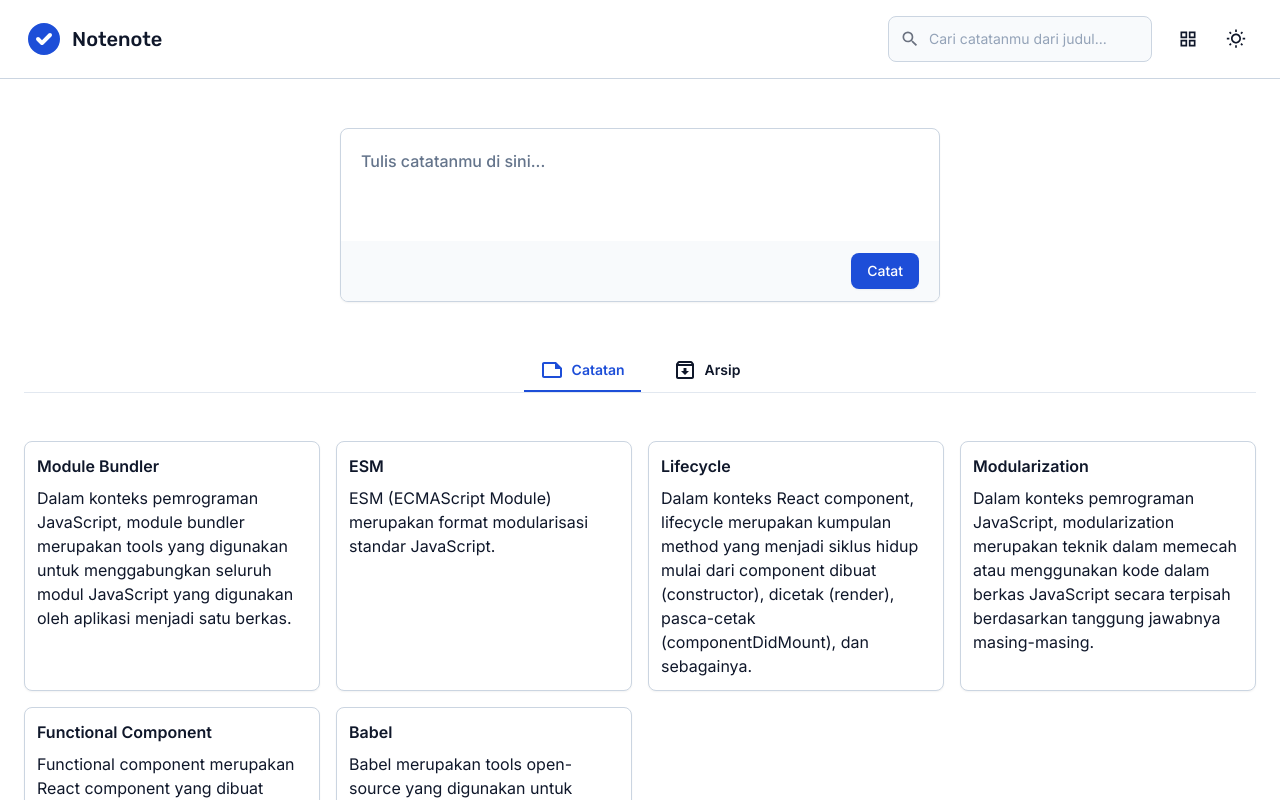
ToggleDarkTheme › able to toggle the theme
Click the button named "theme-toggle-button" at (1236, 39), box [1216,19,1256,59]
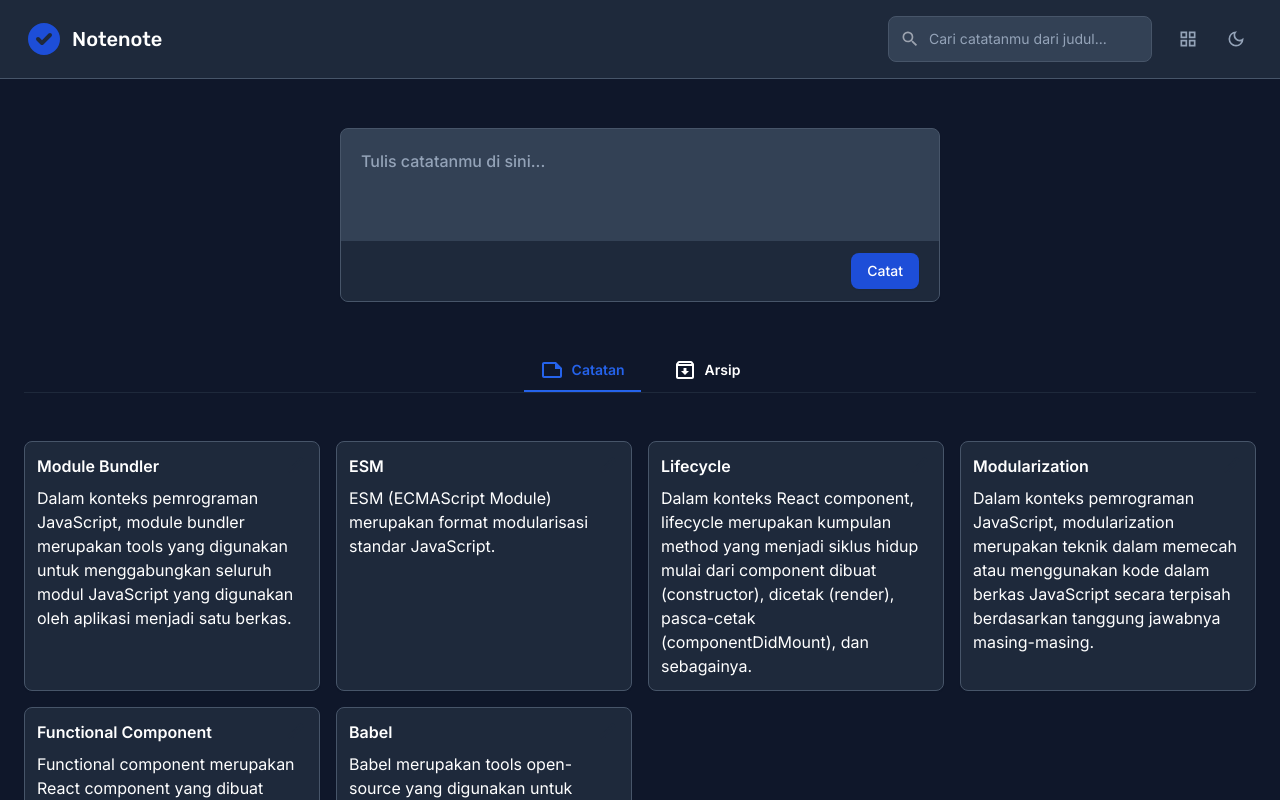
Check: the element named "theme-toggle-dark-icon" is shown, box [1226,29,1246,49]
Click the button named "theme-toggle-button" at (1236, 39), box [1216,19,1256,59]
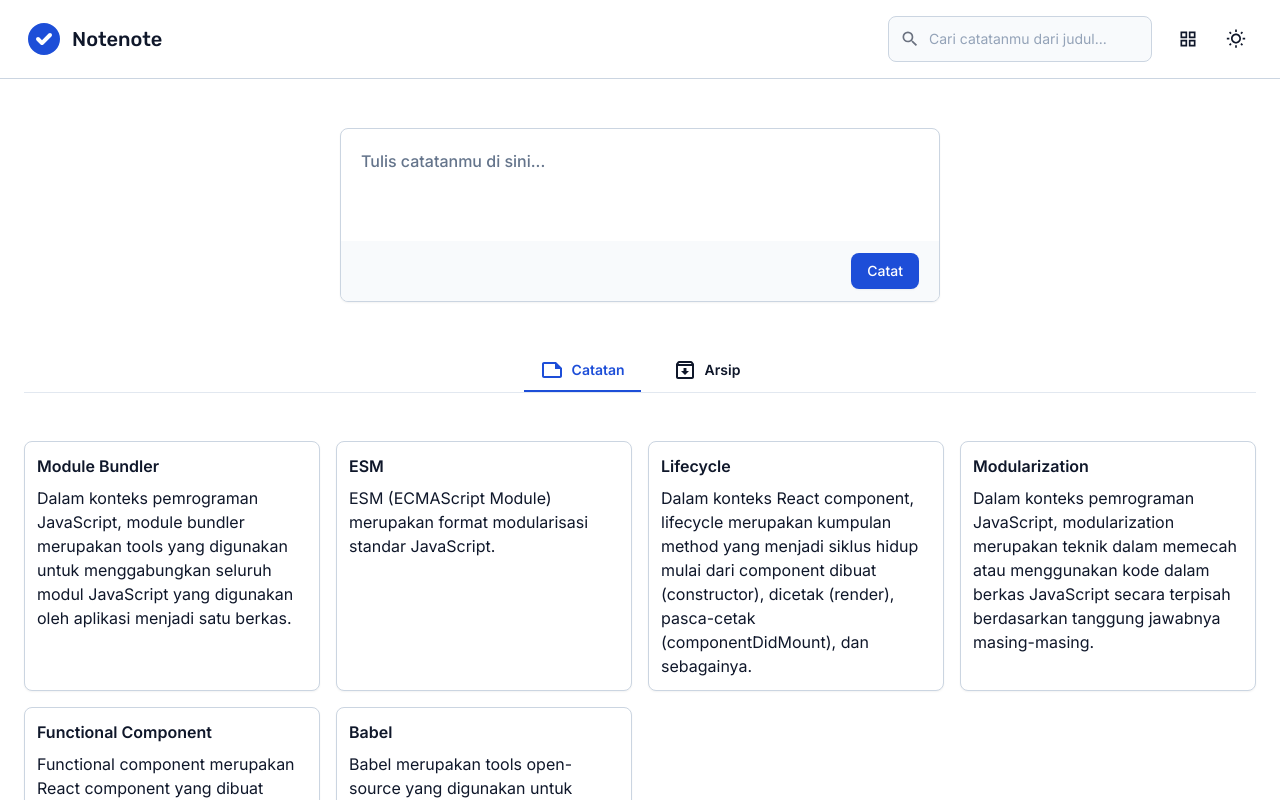
Check: the element named "theme-toggle-light-icon" is shown, box [1226,29,1246,49]
